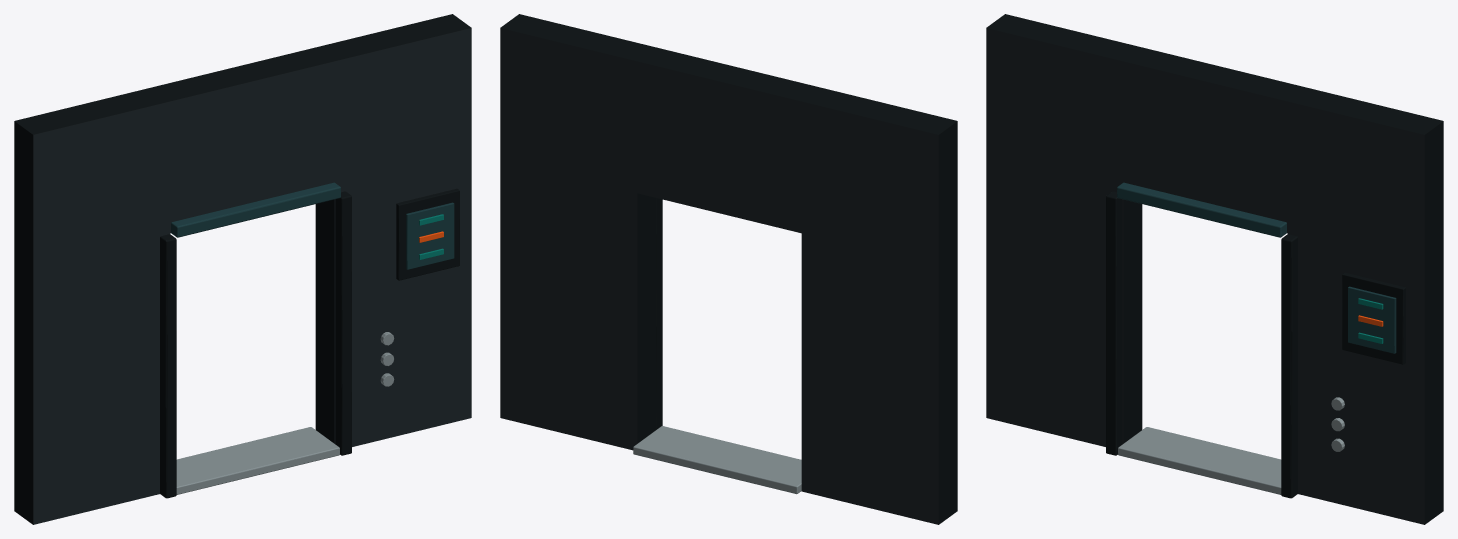
Rendered from wall_doorway.glb.
The picture shows the model from 3 angles, left to right: view 1: azimuth 30°, elevation 25°; view 2: azimuth 150°, elevation 25°; view 3: azimuth 330°, elevation 25°; orthographic projection.
Parts seen in each view (by area): view 1: ENV_WallDoorway_A, ENV_Threshold, ENV_DoorFrame_Left, ENV_DoorFrame_Right, ENV_DoorLintel, ENV_ServicePlateInset, ENV_ServicePlate; view 2: ENV_WallDoorway_A, ENV_Threshold, ENV_DoorFrame_Right; view 3: ENV_WallDoorway_A, ENV_Threshold, ENV_DoorFrame_Right, ENV_DoorFrame_Left, ENV_DoorLintel, ENV_ServicePlateInset, ENV_ServicePlate.
Part boxes in pixels (<box>): ENV_WallDoorway_A: <box>14,14,471,524</box>; ENV_Threshold: <box>176,427,339,494</box>; ENV_DoorFrame_Left: <box>160,234,176,498</box>; ENV_DoorFrame_Right: <box>335,191,351,455</box>; ENV_DoorLintel: <box>171,182,340,237</box>; ENV_ServicePlateInset: <box>406,202,454,269</box>; ENV_ServicePlate: <box>396,188,459,280</box>; ENV_WallDoorway_A: <box>500,14,957,524</box>; ENV_Threshold: <box>633,426,801,494</box>; ENV_DoorFrame_Right: <box>656,198,662,429</box>; ENV_WallDoorway_A: <box>986,14,1443,524</box>; ENV_Threshold: <box>1118,427,1281,494</box>; ENV_DoorFrame_Right: <box>1281,234,1297,498</box>; ENV_DoorFrame_Left: <box>1106,191,1122,455</box>; ENV_DoorLintel: <box>1117,182,1286,237</box>; ENV_ServicePlateInset: <box>1348,286,1396,353</box>; ENV_ServicePlate: <box>1342,272,1405,364</box>.
Size of the model in its own units: 4 by 3.4 by 0.487.
1 material, 1 textured.
